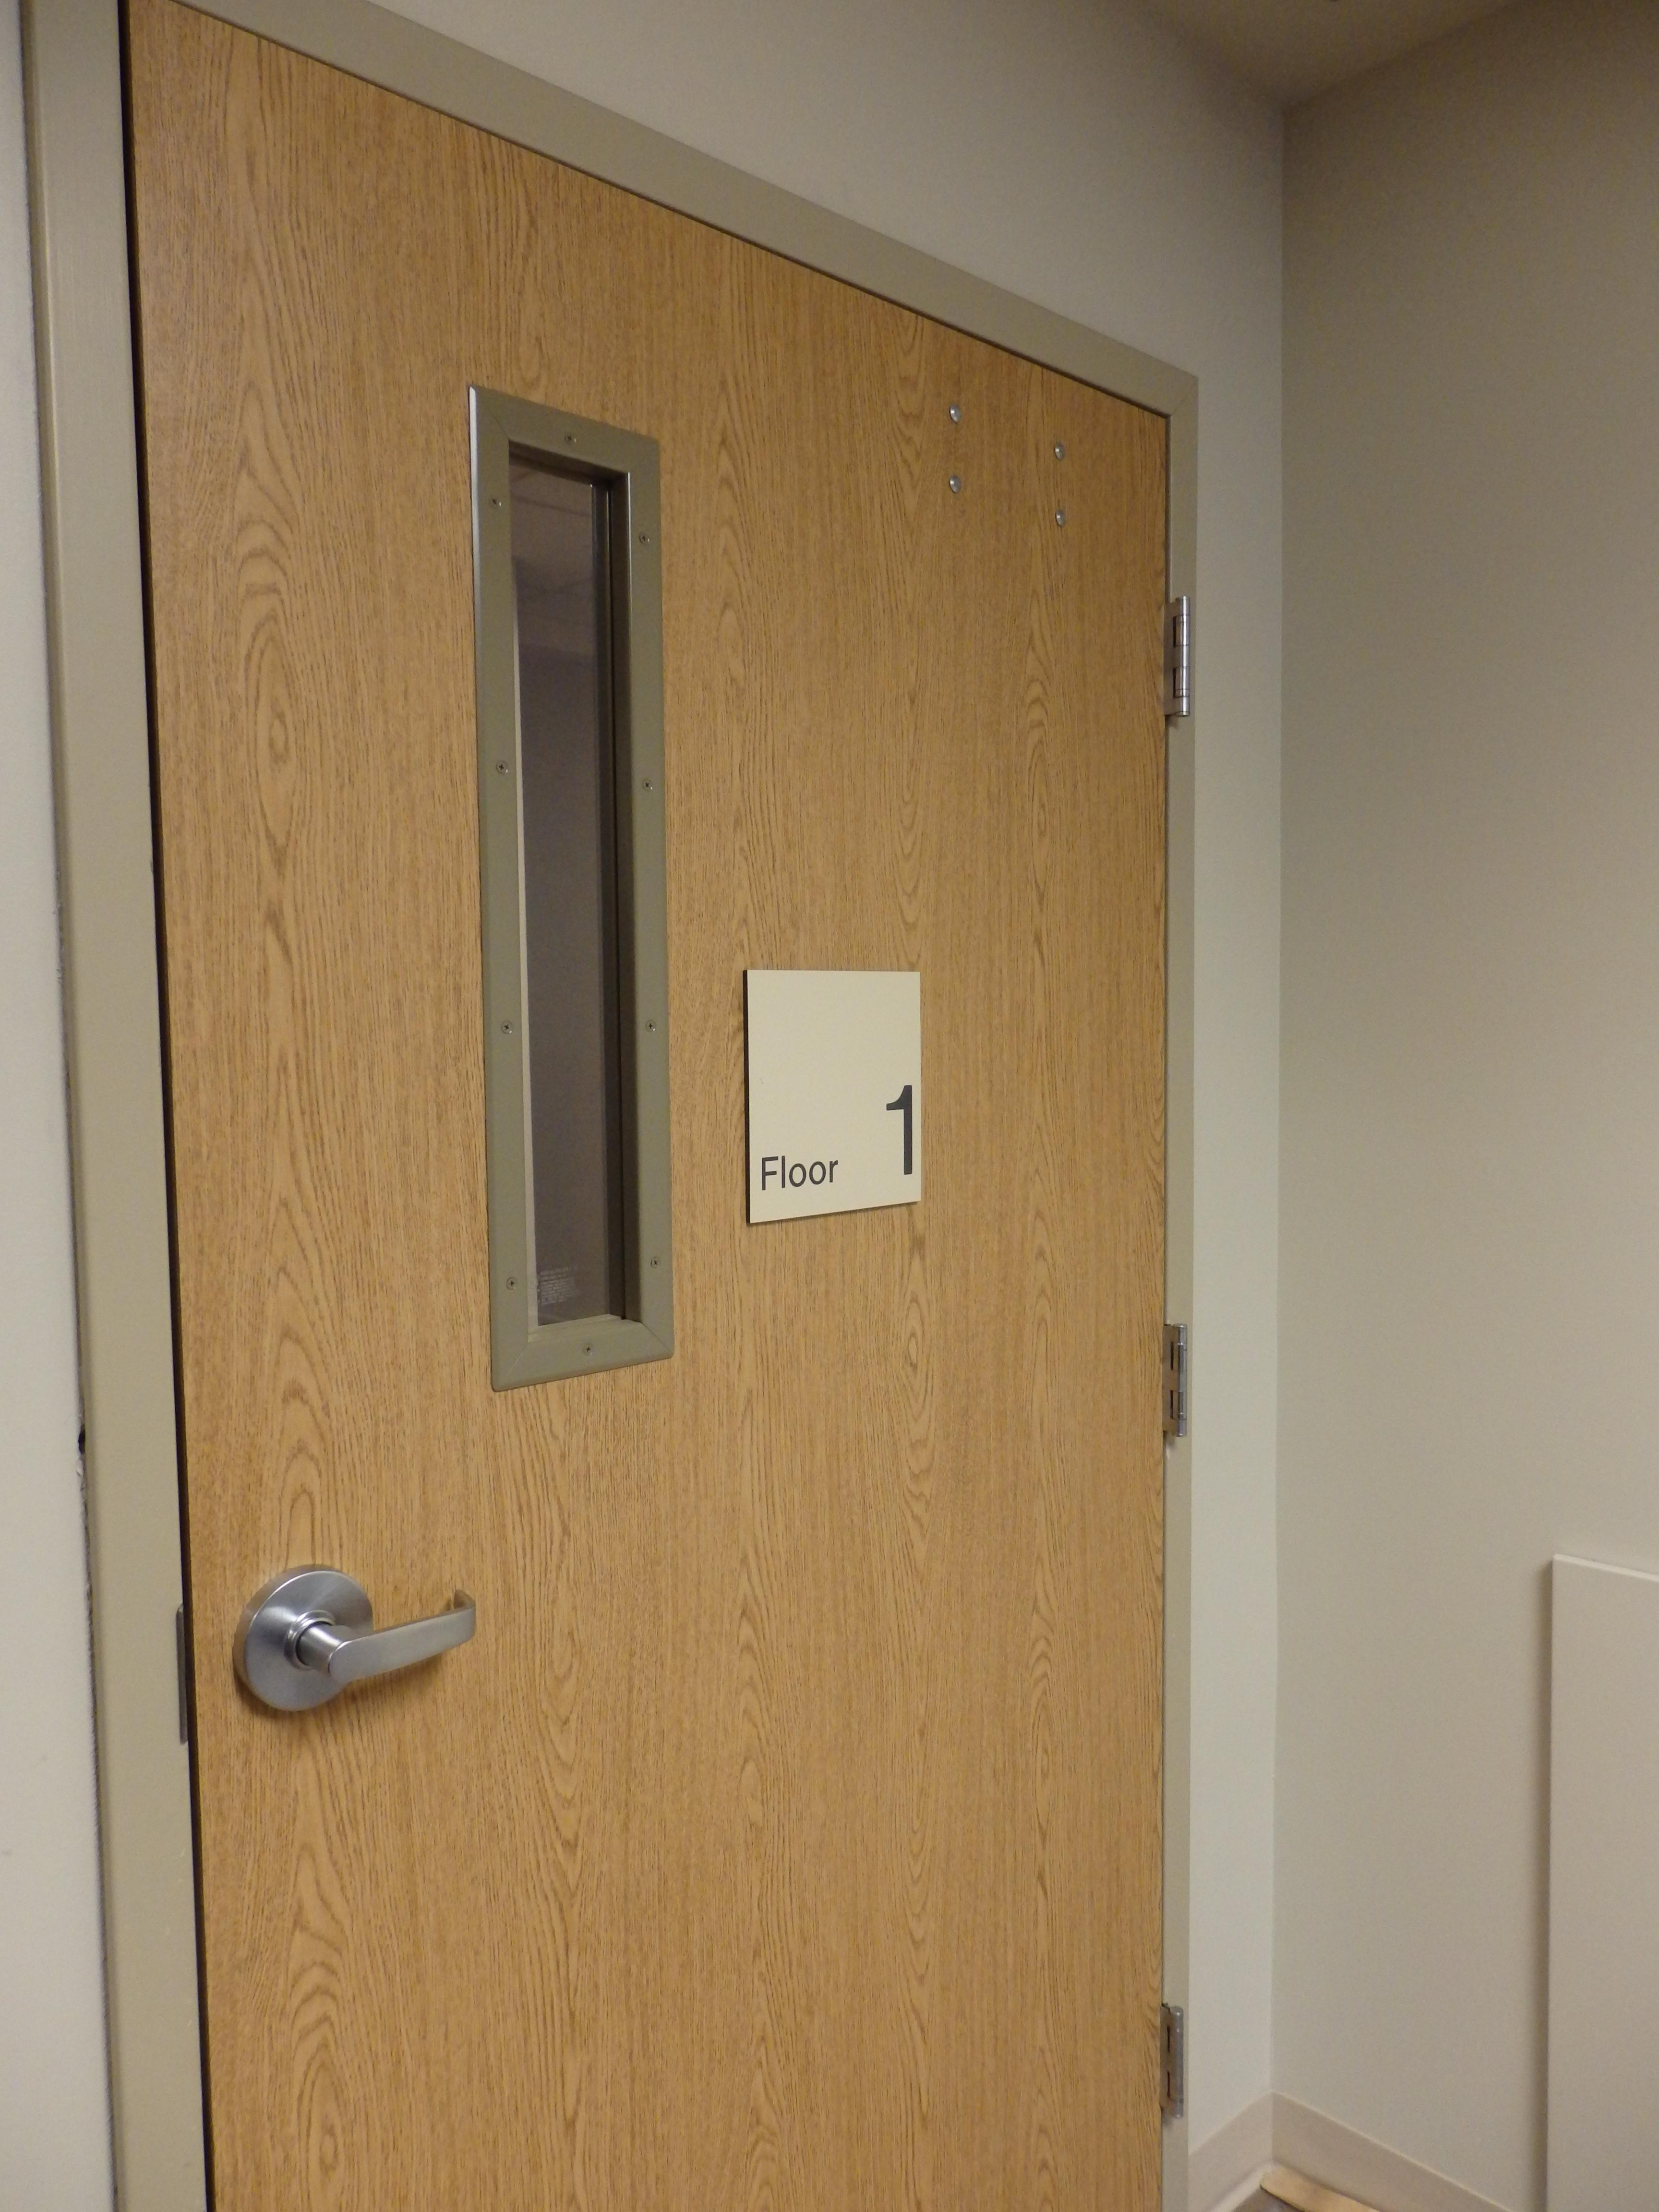door: (110, 3, 1192, 2184)
